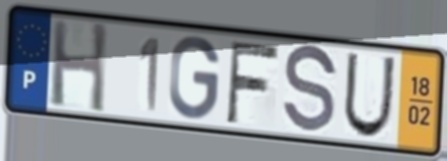1: (136, 35, 160, 113)
F: (223, 38, 282, 126)
G: (167, 33, 224, 123)
H: (49, 17, 110, 117)
S: (280, 42, 341, 139)
U: (340, 50, 398, 141)
